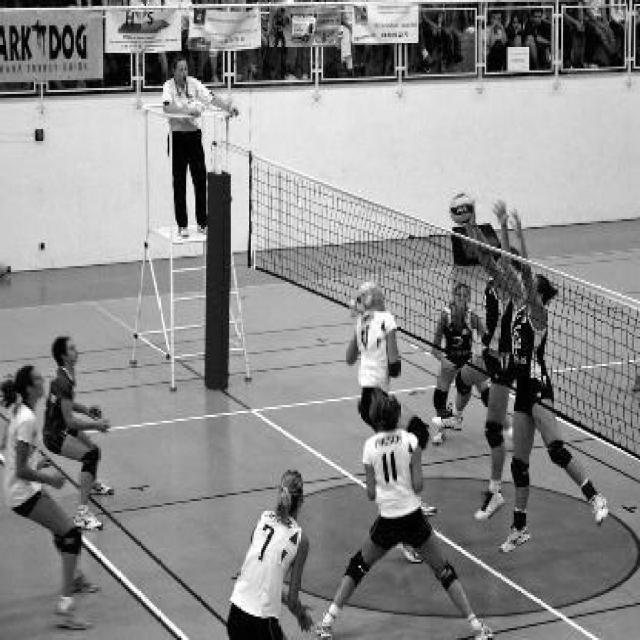volleyball: (448, 193, 474, 224)
